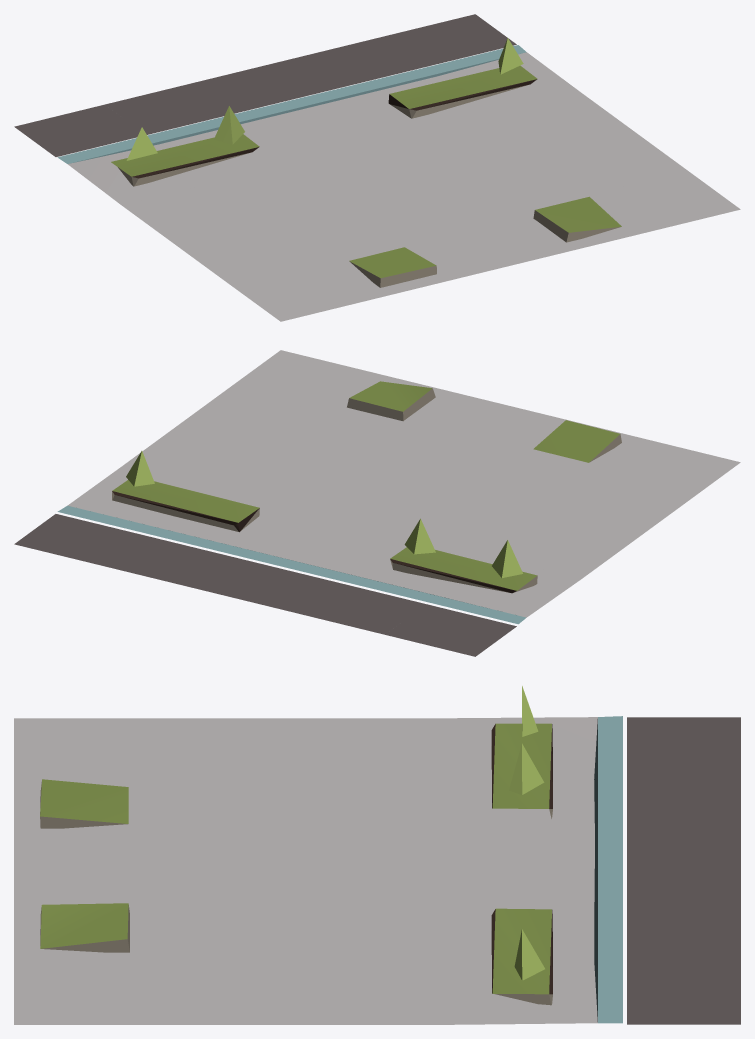
File: QmaDbR7fbSqrAxXrkMTFsrkZFKnaALyCn1hjHA9uRMaCzV_lod2.fbx
3 views of the same model, one above another, from view 1: azimuth 30°, elevation 25°; view 2: azimuth 150°, elevation 25°; view 3: azimuth 270°, elevation 25° (orthographic). The views are drawn at different scales.
Parts seen in each view (by area): view 1: Entity_513; view 2: Entity_513; view 3: Entity_513.
Boxes of the visible parts, bbox=[...] form: Entity_513: bbox=[14, 14, 740, 321]; Entity_513: bbox=[14, 350, 740, 656]; Entity_513: bbox=[14, 686, 740, 1024].
Size of the model in its own units: 15921 by 1591 by 15907.
Materials: 1 (1 with a texture image).
